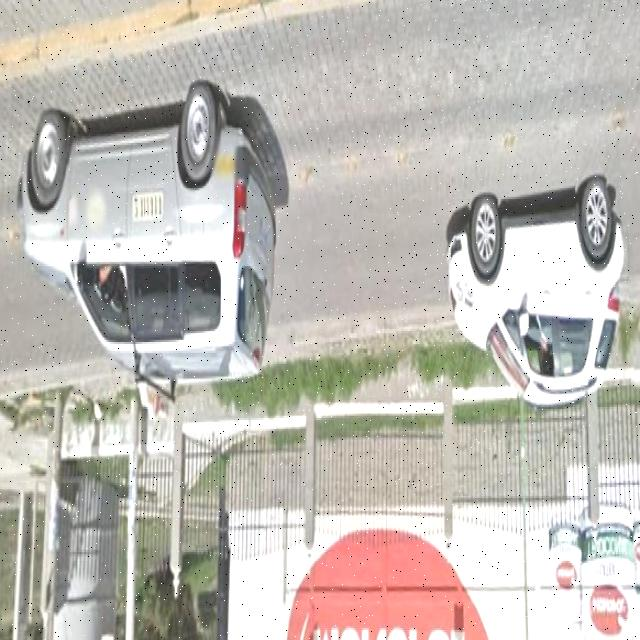car: (30, 81, 278, 392), (454, 156, 627, 404)
